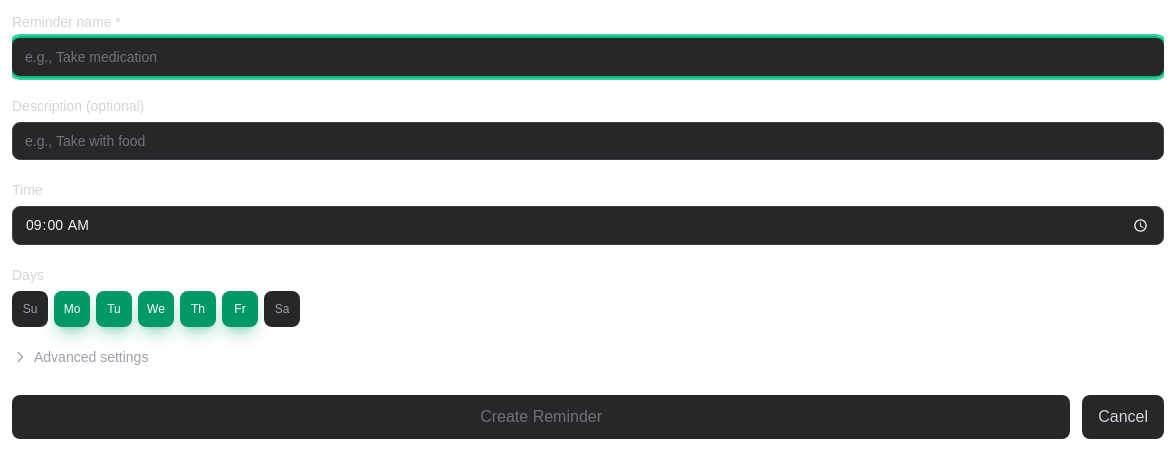
Test: ReminderForm Component › Validation › should disable submit when no days selected
Type "Test" into the field labelled "Reminder name *".
click(588, 57); type("Test")  # box [12, 38, 1164, 76]
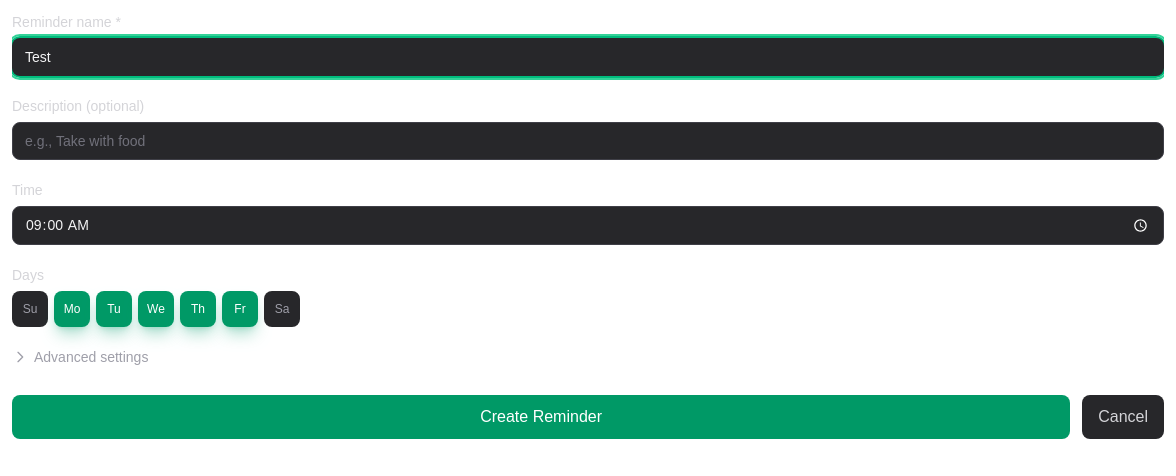
Click the button with aria-label "monday".
click(72, 309)  # box [54, 291, 90, 327]
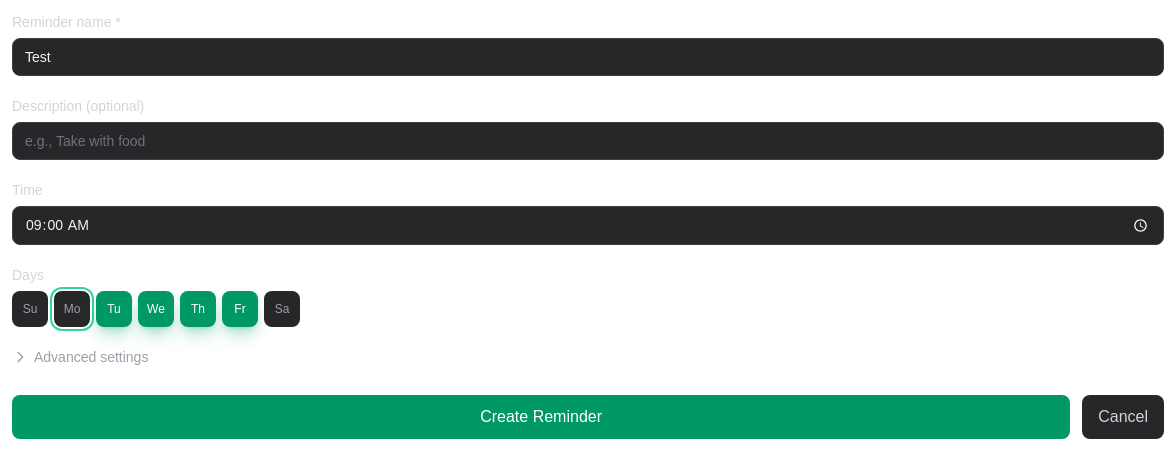
Click the button with aria-label "tuesday".
click(114, 309)  # box [96, 291, 132, 327]
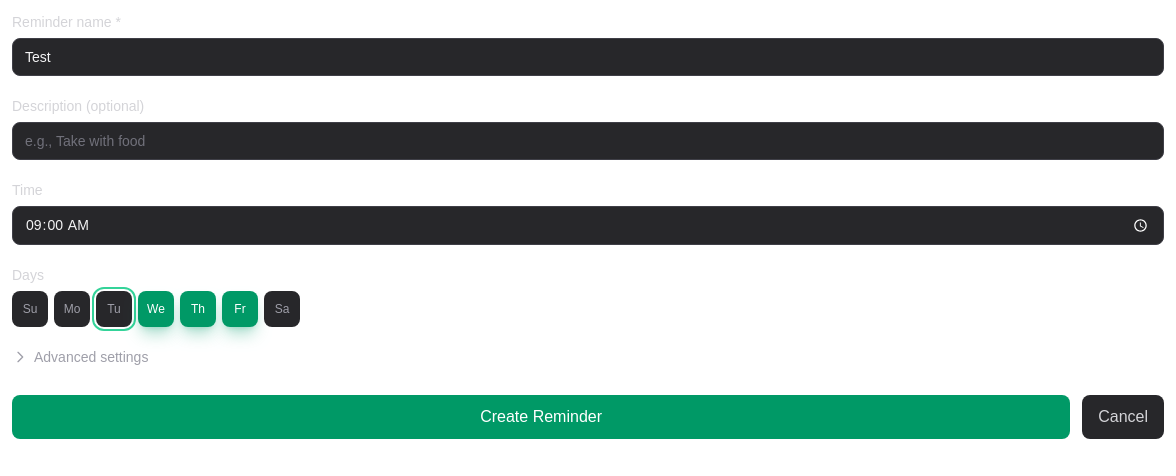
Click the button with aria-label "wednesday".
click(156, 309)  # box [138, 291, 174, 327]
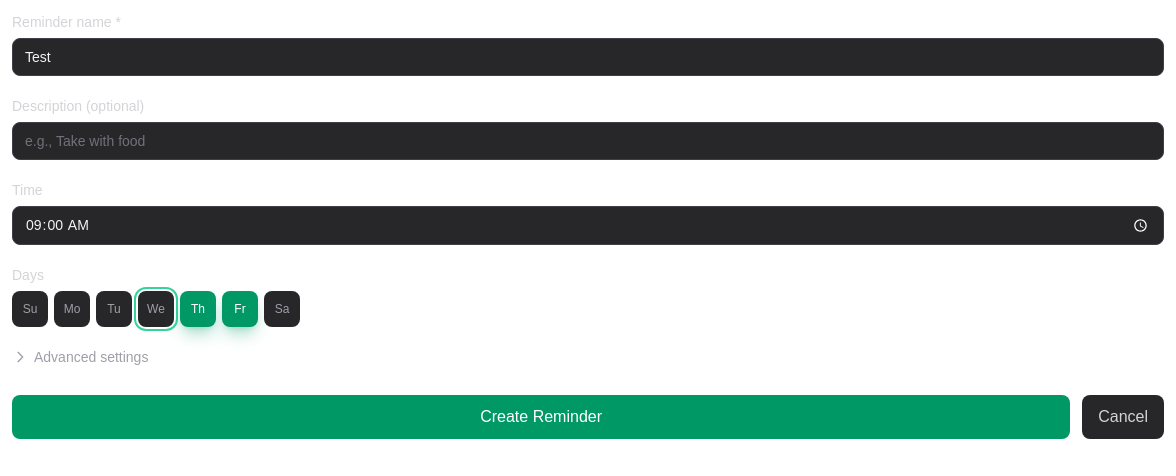
Click the button with aria-label "thursday".
click(198, 309)  # box [180, 291, 216, 327]
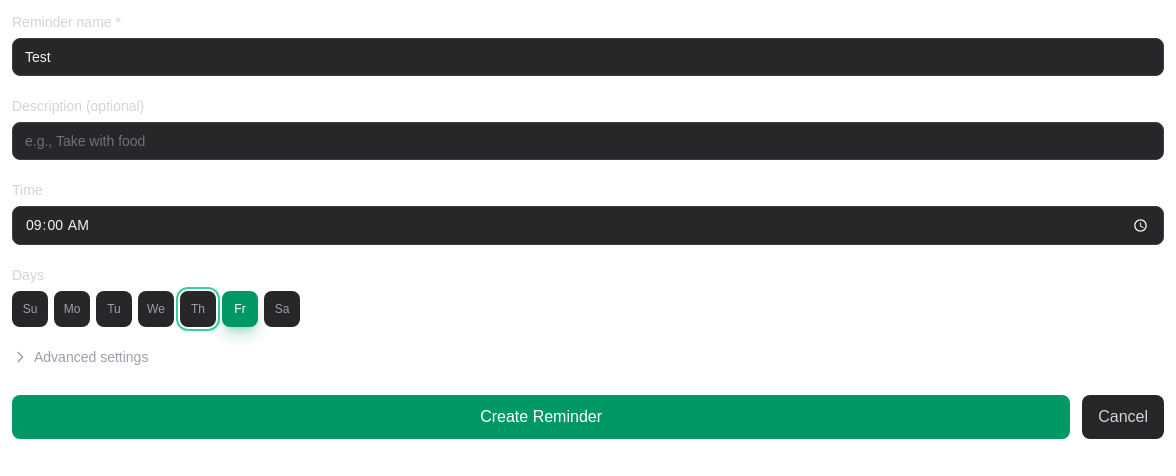
Click the button with aria-label "friday".
click(240, 309)  # box [222, 291, 258, 327]
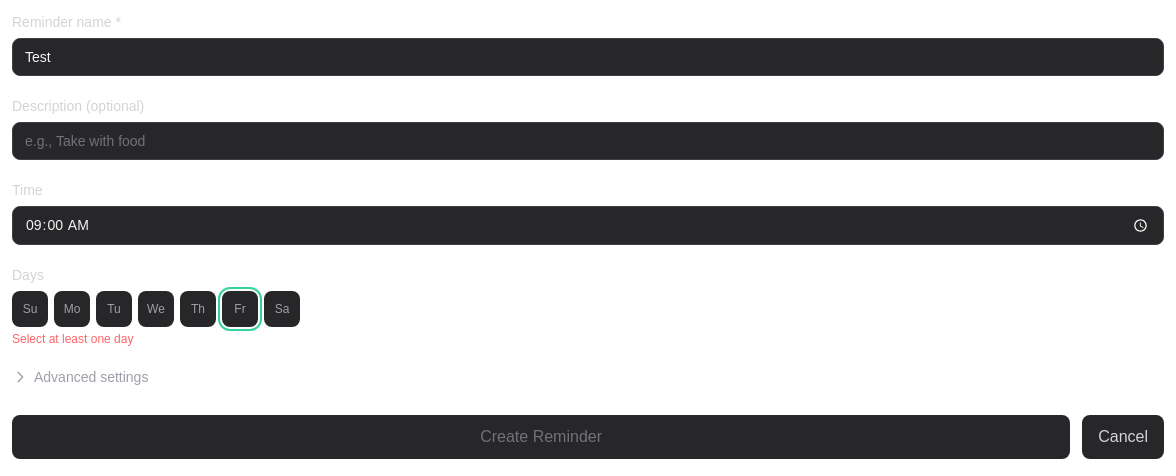
Check: the button "Create Reminder" is disabled, box [12, 415, 1070, 459]
